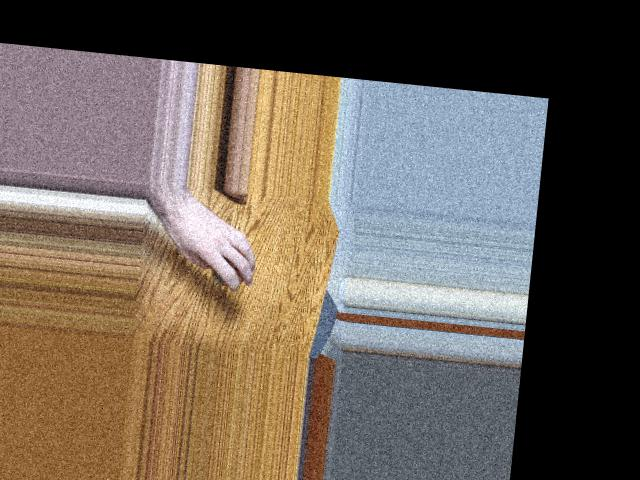onion: (206, 252, 247, 287)
